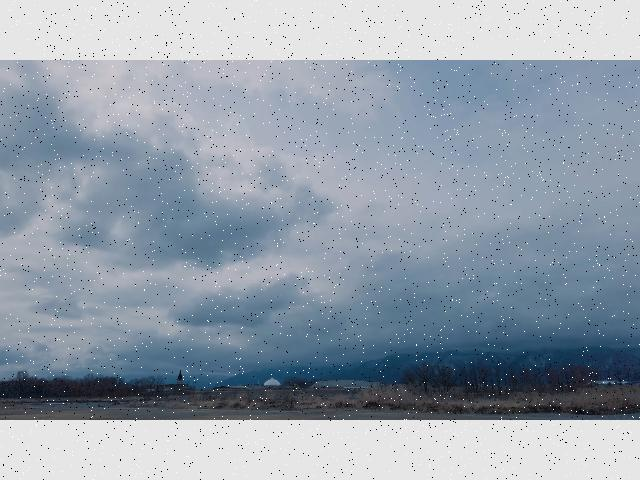Anti-Drone: (270, 292, 286, 302)
